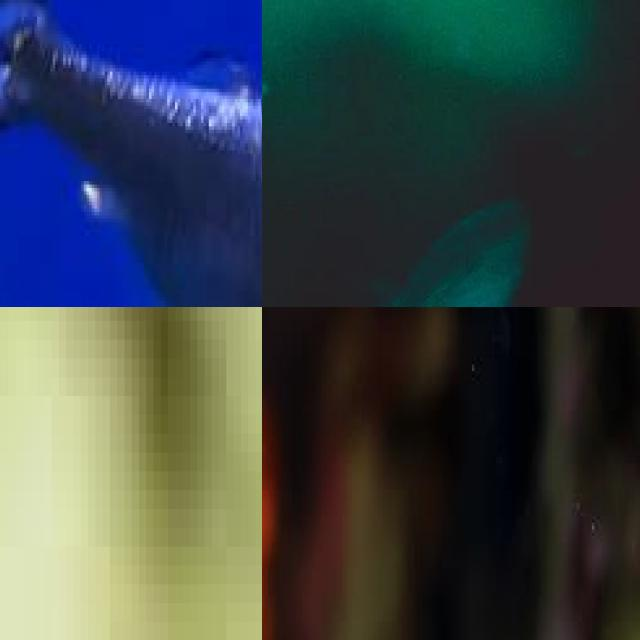fish: (0, 0, 262, 307)
